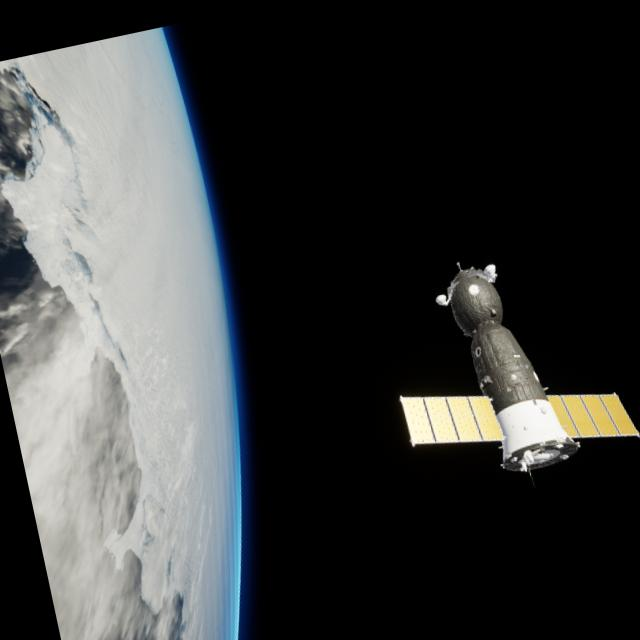Satellites revolving around earth: (370, 228, 640, 505)
